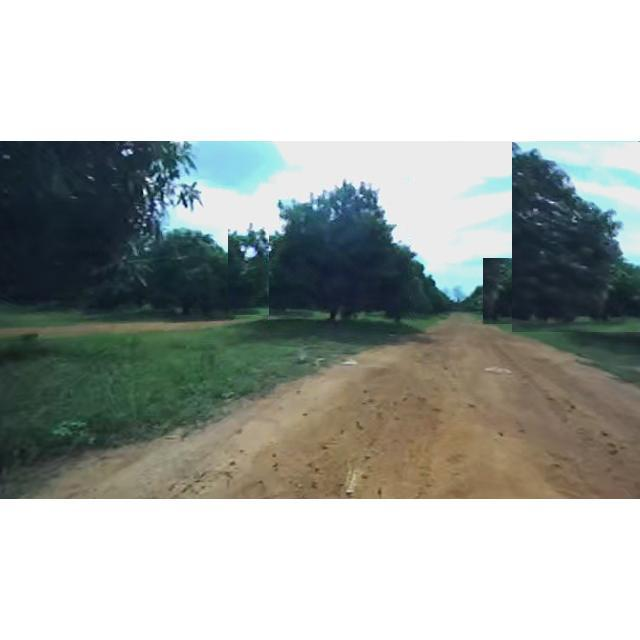direk: (0, 142, 206, 286), (512, 142, 640, 332), (269, 178, 409, 332), (125, 218, 245, 326), (483, 258, 559, 324), (228, 229, 284, 315), (386, 258, 434, 318)
